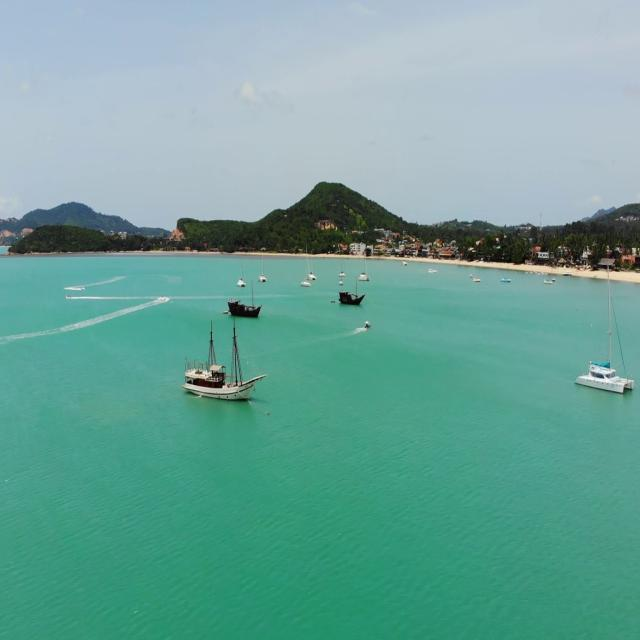fishing boat: (164, 304, 262, 408), (568, 284, 640, 407), (210, 279, 271, 311), (331, 276, 369, 313)
